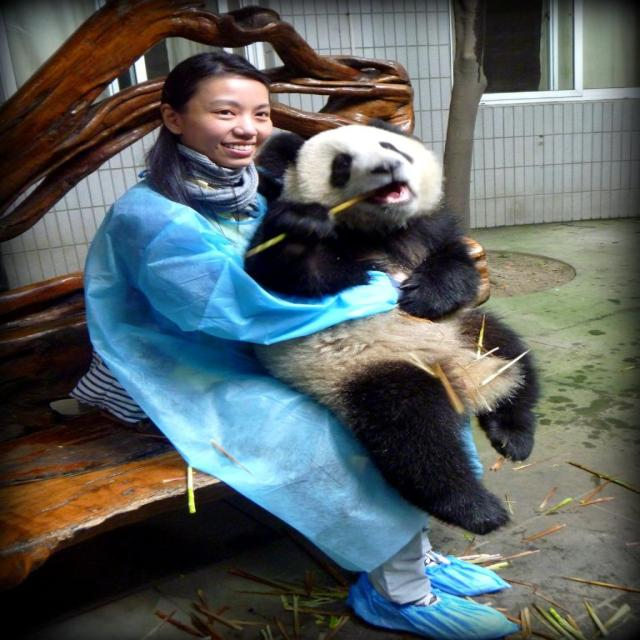panda: (254, 114, 544, 528)
